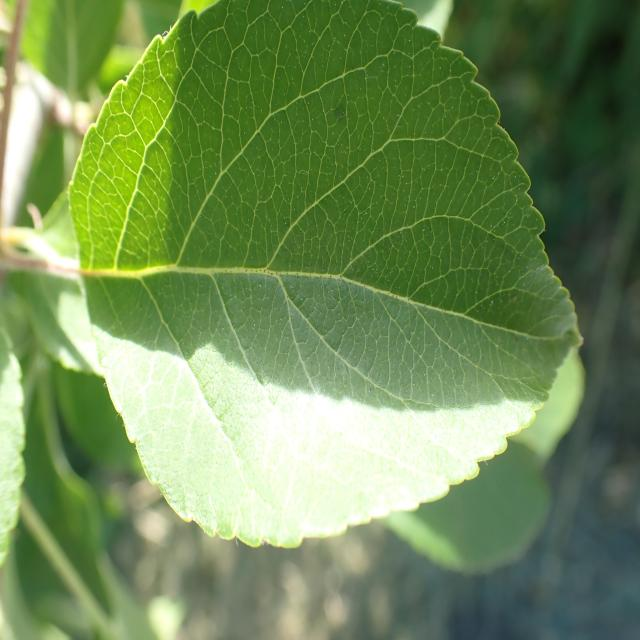healthy: (68, 1, 584, 549)
